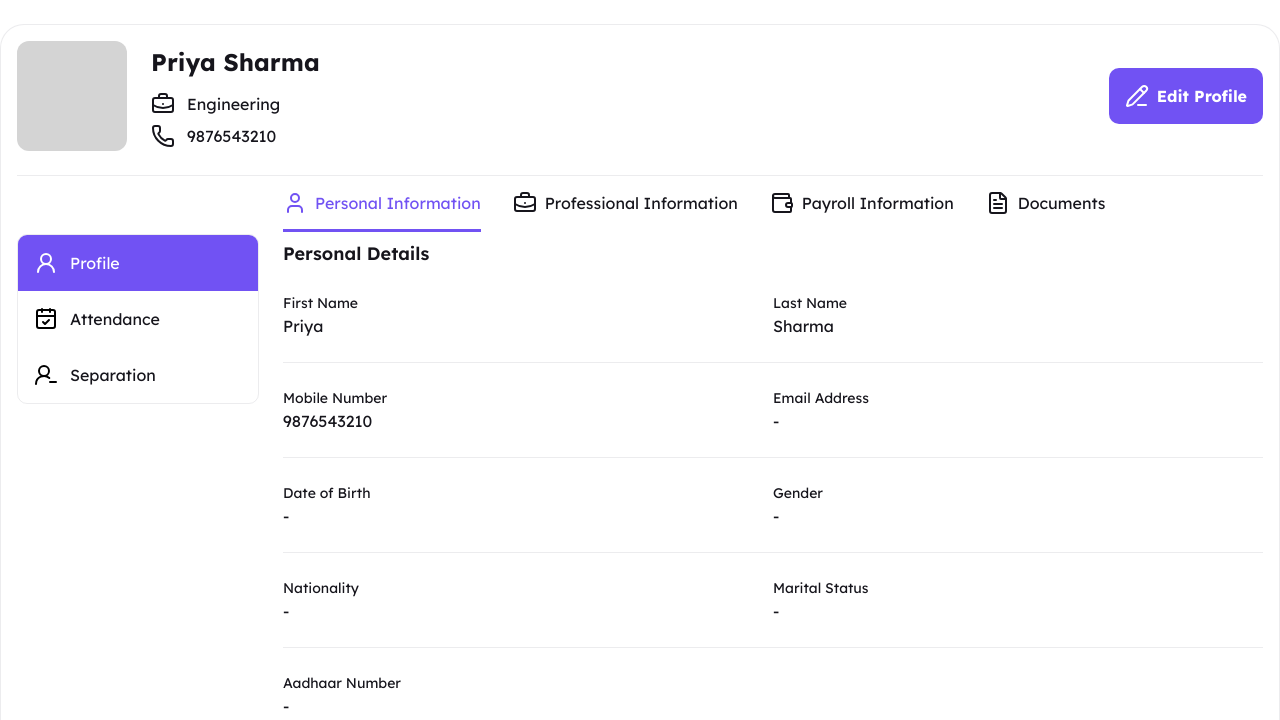
Test case: EmployeeDetails — separation section › shows the filed separation once the read lands
Click the button "Separation".
click(138, 375)  # box [18,347,258,403]
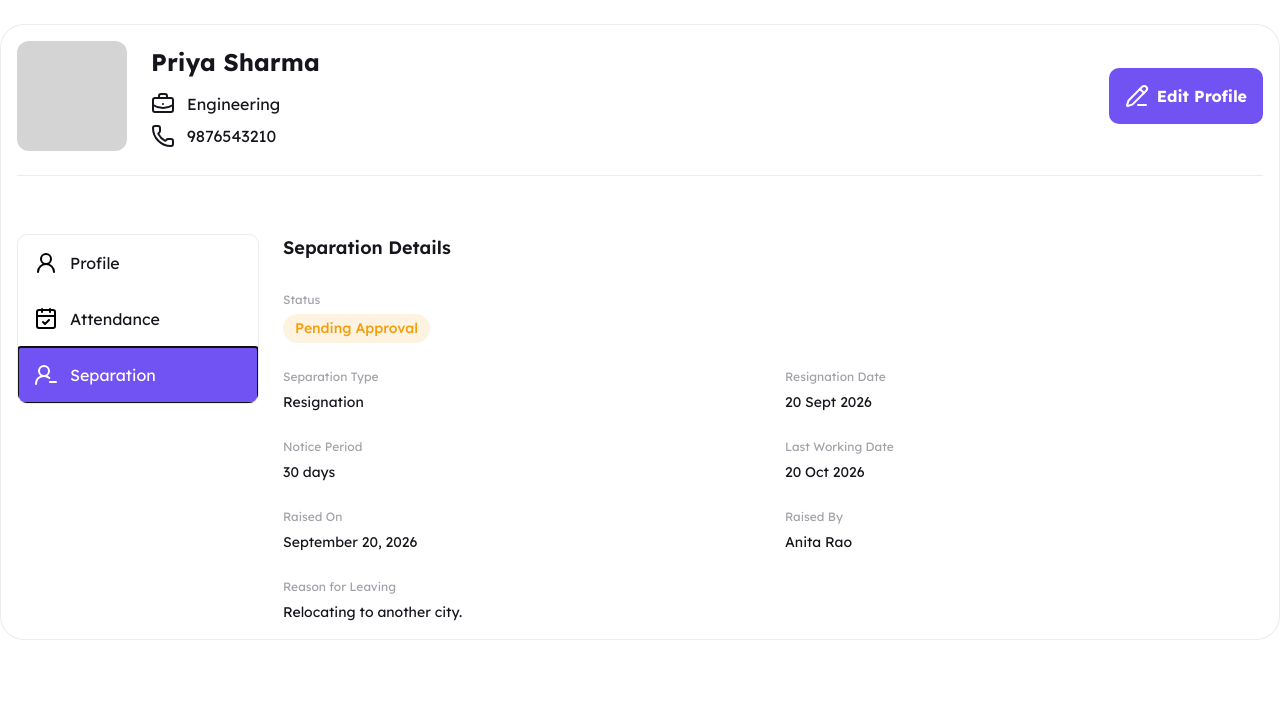
Now the text "Relocating to another city." is shown, box [283,603,462,621]
Now the text "Pending Approval" is shown, box [283,314,430,343]
Now the text "Last Working Date" is shown, box [785,439,894,454]
